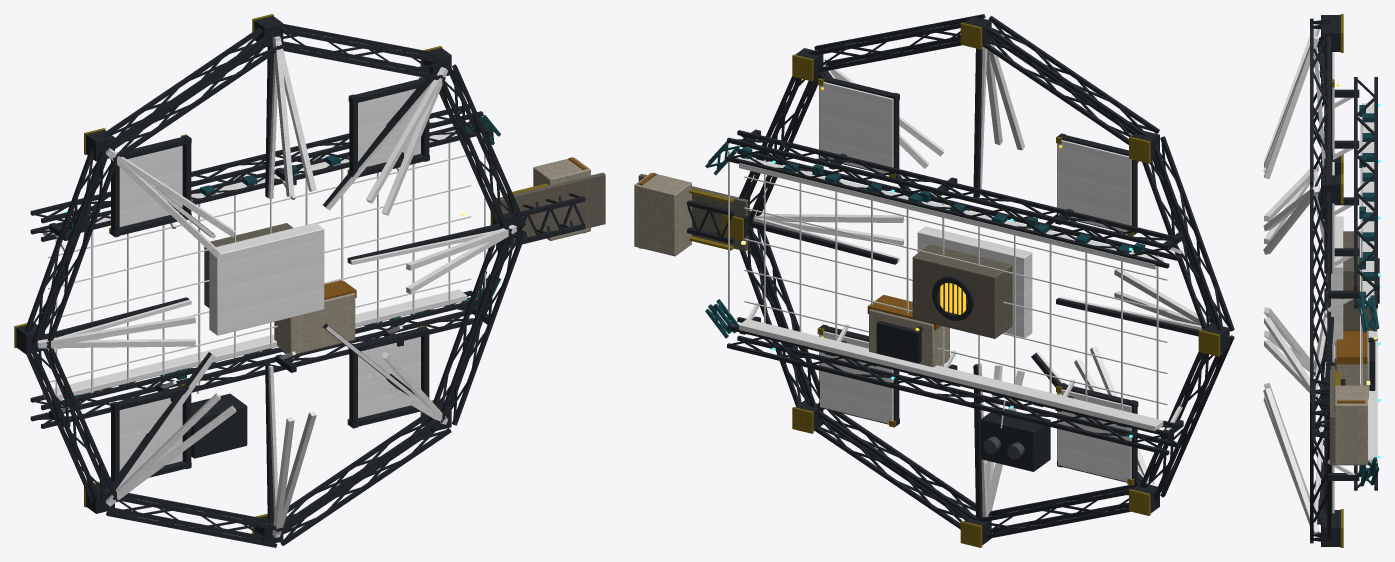
Rendered from place_claim_outpost_catcher.glb.
3 views of the same model, side by side, from view 1: azimuth 30°, elevation 25°; view 2: azimuth 150°, elevation 25°; view 3: azimuth 270°, elevation 25° (orthographic). The views are drawn at different scales.
Parts seen in each view (by area): view 1: LOD0_Armor, LOD0_MechanicalDark, LOD1_Armor, LOD1_MechanicalDark, LOD0_Hull, LOD0_Hull_aged, LOD1_Hull, LOD0_Hull_role; view 2: LOD0_Armor, LOD0_MechanicalDark, LOD1_Armor, LOD0_Hull_aged, LOD1_MechanicalDark, LOD0_Hull, LOD0_Warning, LOD0_Hull_role, LOD1_Hull, LOD0_Livery; view 3: LOD0_Armor, LOD0_MechanicalDark, LOD1_Armor, LOD0_Hull, LOD1_MechanicalDark, LOD0_Hull_role, LOD0_Hull_aged, LOD0_Livery, LOD1_Livery, LOD0_Warning, LOD1_Hull, LOD2_Armor (+1 smaller).
Part boxes in pixels (bbox=[...]): LOD0_Armor: bbox=[16, 16, 585, 547]; LOD0_MechanicalDark: bbox=[37, 36, 516, 537]; LOD1_Armor: bbox=[25, 25, 585, 547]; LOD1_MechanicalDark: bbox=[39, 36, 516, 536]; LOD0_Hull: bbox=[274, 157, 590, 354]; LOD0_Hull_aged: bbox=[204, 172, 605, 307]; LOD1_Hull: bbox=[274, 160, 590, 353]; LOD0_Hull_role: bbox=[68, 115, 500, 404]; LOD0_Armor: bbox=[687, 14, 1234, 544]; LOD0_MechanicalDark: bbox=[728, 41, 1210, 517]; LOD1_Armor: bbox=[687, 14, 1234, 532]; LOD0_Hull_aged: bbox=[638, 174, 1012, 338]; LOD1_MechanicalDark: bbox=[728, 43, 1206, 516]; LOD0_Hull: bbox=[634, 173, 949, 366]; LOD0_Warning: bbox=[689, 22, 1220, 547]; LOD0_Hull_role: bbox=[705, 141, 1145, 427]; LOD1_Hull: bbox=[634, 172, 949, 366]; LOD0_Livery: bbox=[638, 172, 940, 330]; LOD0_Armor: bbox=[1310, 15, 1379, 546]; LOD0_MechanicalDark: bbox=[1263, 28, 1377, 534]; LOD1_Armor: bbox=[1310, 19, 1377, 542]; LOD0_Hull: bbox=[1334, 331, 1368, 465]; LOD1_MechanicalDark: bbox=[1263, 32, 1377, 533]; LOD0_Hull_role: bbox=[1358, 105, 1379, 486]; LOD0_Hull_aged: bbox=[1329, 231, 1376, 465]; LOD0_Livery: bbox=[1336, 330, 1367, 403]; LOD1_Livery: bbox=[1336, 330, 1367, 403]; LOD0_Warning: bbox=[1331, 14, 1343, 547]; LOD1_Hull: bbox=[1335, 331, 1368, 464]; LOD2_Armor: bbox=[1313, 38, 1379, 538].
Size of what is drawn, in the model's own units: 98.2 by 83.4 by 17.52.
Materials: 13 (8 with a texture image).
